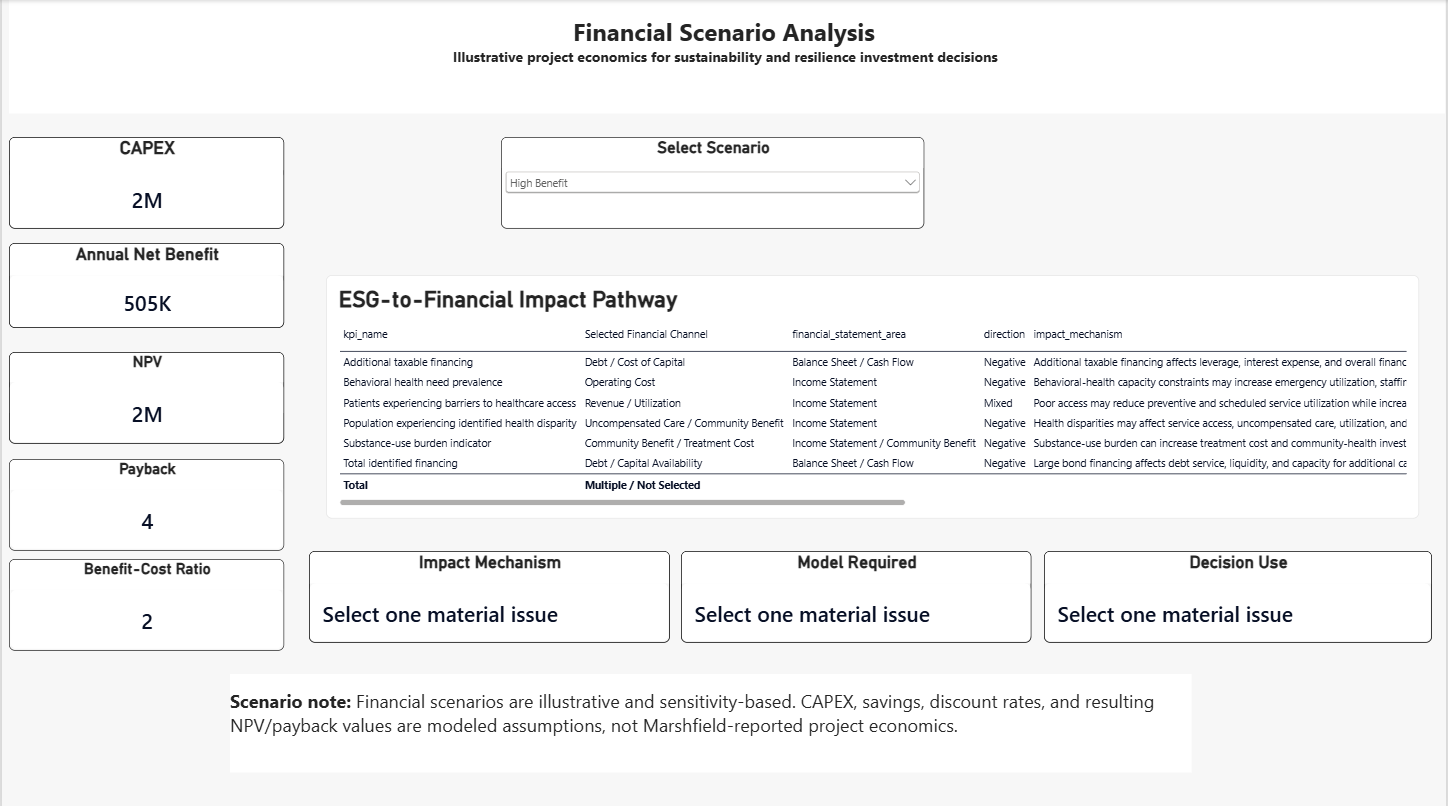

What the dashboard file says about the page in this screenshot:
{"tool":"powerbi","page":{"name":" Financial Scenario Analysis","canvas":[1920,1080],"ordinal":3},"visuals":[{"type":"textbox","box":[9.6,0,1910.4,151.1],"z":0},{"type":"cardVisual","title":"CAPEX","fields":{"Data":["Data_Quality.Scenario CAPEX"]},"box":[9.9,182.3,366.3,121.5],"z":1000},{"type":"cardVisual","title":"Annual Net Benefit","fields":{"Data":["Project_Financial.Annual Net Benefit"]},"box":[9.9,323.6,366.3,113.3],"z":2000},{"type":"cardVisual","title":"NPV","fields":{"Data":["Data_Quality.Scenario NPV"]},"box":[9.9,468.1,366.3,121.5],"z":3000},{"type":"cardVisual","title":"Payback","fields":{"Data":["Data_Quality.Scenario Payback"]},"box":[9.9,611,366.3,121.5],"z":4000},{"type":"tableEx","title":"ESG-to-Financial Impact Pathway","fields":{"Values":["ESG_Financial_Bridge.kpi_name","Data_Quality.Selected Financial Channel","ESG_Financial_Bridge.financial_statement_area","ESG_Financial_Bridge.direction","ESG_Financial_Bridge.impact_mechanism","ESG_Financial_Bridge.model_required","ESG_Financial_Bridge.decision_use","ESG_Financial_Bridge.confidence"]},"box":[430.3,366.3,1453.6,323.6],"z":5000},{"type":"slicer","title":"Select Scenario","fields":{"Values":["Project_Financial.scenario_name"]},"box":[663.5,182.3,563.4,121.5],"z":6000},{"type":"cardVisual","title":"Impact Mechanism","fields":{"Data":["Data_Quality.Selected Impact Mechanism"]},"box":[409,732.5,479.6,121.5],"z":7000},{"type":"cardVisual","title":"Model Required","fields":{"Data":["Data_Quality.Selected Model Required"]},"box":[903.3,732.5,466.4,121.5],"z":8000},{"type":"cardVisual","title":"Decision Use","fields":{"Data":["Data_Quality.Selected Decision Use"]},"box":[1386.2,732.5,515.7,121.5],"z":9000},{"type":"cardVisual","title":"Benefit-Cost Ratio","fields":{"Data":["Data_Quality.Benefit Cost Ratio"]},"box":[9.9,744,366.3,121.5],"z":9001},{"type":"textbox","box":[303.8,896.8,1279.5,131.4],"z":9002}]}

Visuals, with their boxes in screenshot pixels (x1, y1, x2, y2), scaled from the page's 1920x1080 canvas onto the 1448x806 screenshot:
textbox: x1=7 y1=0 x2=1447 y2=113
"CAPEX" cardVisual: x1=7 y1=136 x2=284 y2=227
"Annual Net Benefit" cardVisual: x1=7 y1=242 x2=284 y2=326
"NPV" cardVisual: x1=7 y1=349 x2=284 y2=440
"Payback" cardVisual: x1=7 y1=456 x2=284 y2=547
"ESG-to-Financial Impact Pathway" tableEx: x1=325 y1=273 x2=1421 y2=515
"Select Scenario" slicer: x1=500 y1=136 x2=925 y2=227
"Impact Mechanism" cardVisual: x1=308 y1=547 x2=670 y2=637
"Model Required" cardVisual: x1=681 y1=547 x2=1033 y2=637
"Decision Use" cardVisual: x1=1045 y1=547 x2=1434 y2=637
"Benefit-Cost Ratio" cardVisual: x1=7 y1=555 x2=284 y2=646
textbox: x1=229 y1=669 x2=1194 y2=767
